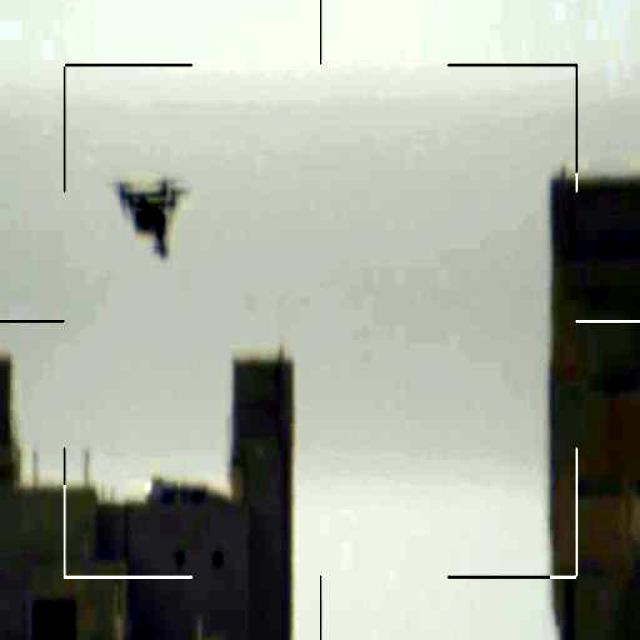bird: (121, 176, 180, 264)
